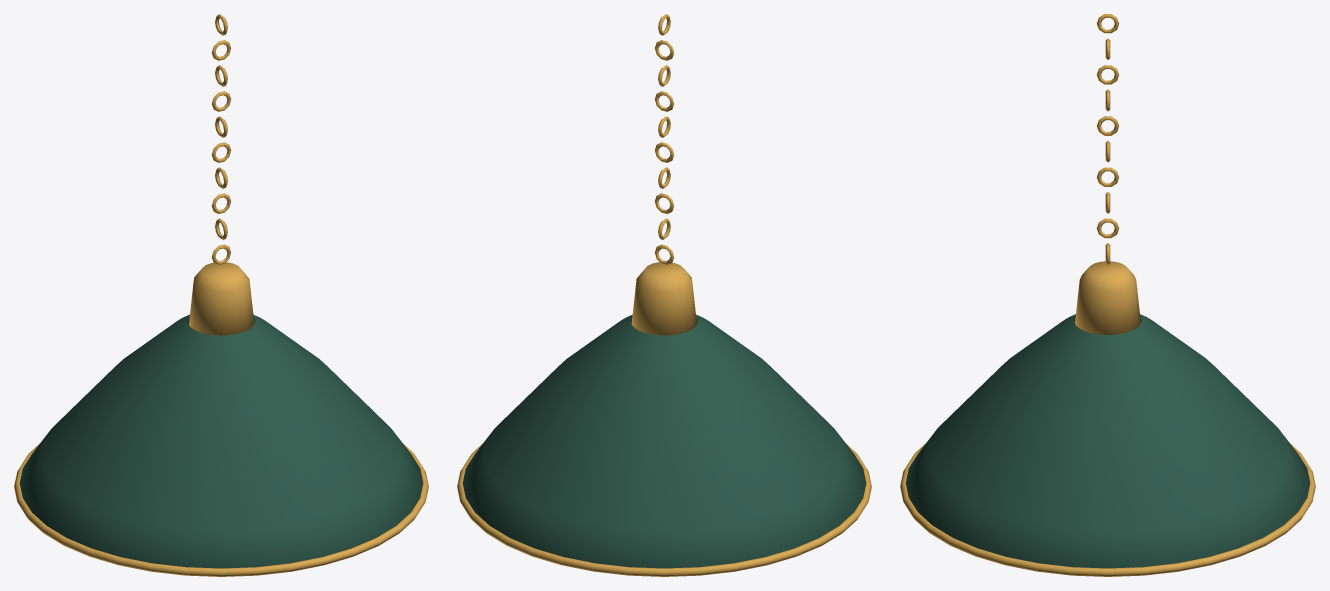
Rendered from lamp.glb.
3 views of the same model, side by side, from view 1: azimuth 30°, elevation 25°; view 2: azimuth 150°, elevation 25°; view 3: azimuth 270°, elevation 25° (orthographic).
Visible parts, largest first — view 1: LampBody; view 2: LampBody; view 3: LampBody.
Part boxes in pixels (x1=…): LampBody: x1=14, y1=14, x2=428, y2=576; LampBody: x1=457, y1=14, x2=871, y2=576; LampBody: x1=900, y1=14, x2=1315, y2=576.
Size of the model in its own units: 0.736 by 0.931 by 0.736.
